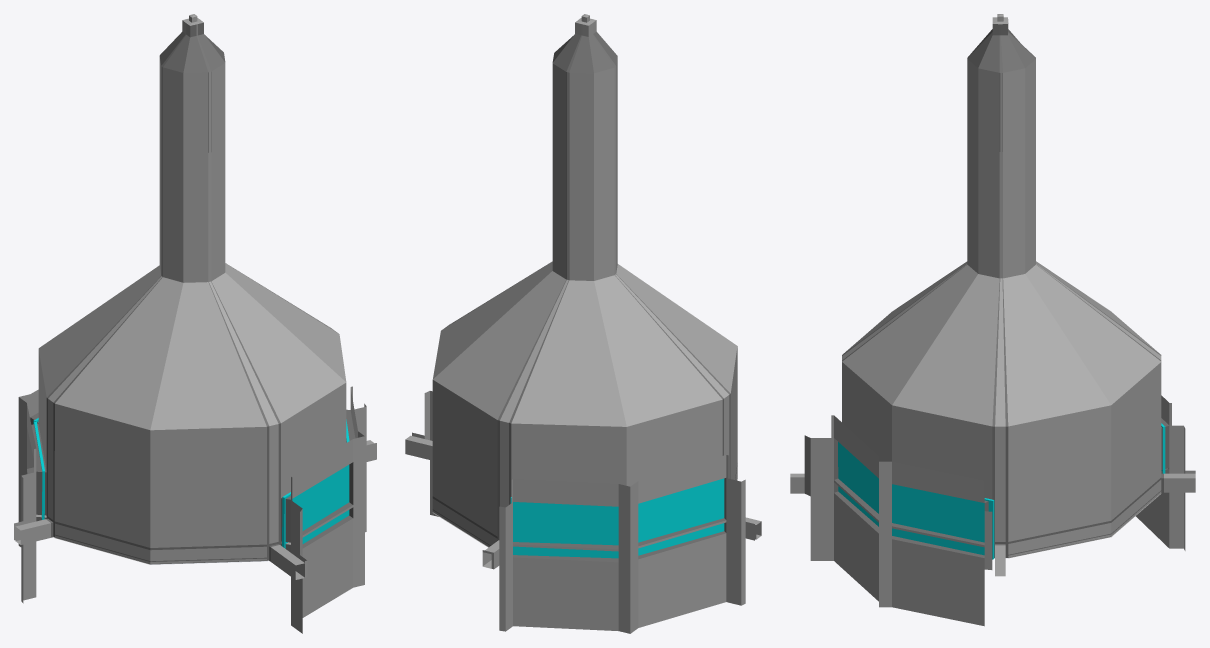
The model's file is HubRoomV3.fbx.
The picture shows the model from 3 angles, left to right: view 1: azimuth 30°, elevation 25°; view 2: azimuth 150°, elevation 25°; view 3: azimuth 270°, elevation 25°; orthographic projection. The views are drawn at different scales.
Parts seen in each view (by area): view 1: DaraghsHub, Window; view 2: DaraghsHub, Window3, Window2; view 3: DaraghsHub, Window1, Window.
Boxes of the visible parts, left/top/right/bottom form: DaraghsHub: left=14, top=14, right=376, bottom=633; Window: left=282, top=465, right=349, bottom=548; DaraghsHub: left=405, top=14, right=761, bottom=633; Window3: left=510, top=497, right=618, bottom=558; Window2: left=638, top=478, right=724, bottom=555; DaraghsHub: left=790, top=14, right=1195, bottom=626; Window1: left=892, top=484, right=994, bottom=559; Window: left=838, top=442, right=878, bottom=526.
Size of the model in its own units: 152 by 226 by 154.
